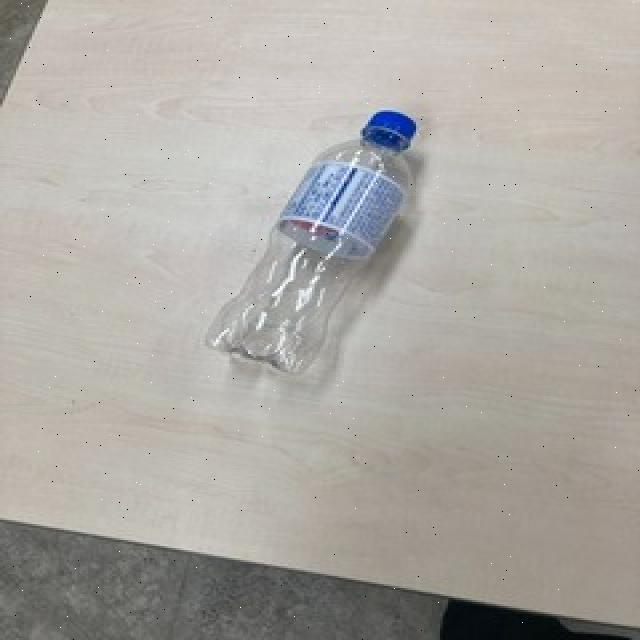bottle: (203, 101, 421, 381)
cap: (358, 108, 424, 144)
label: (255, 166, 430, 248)
